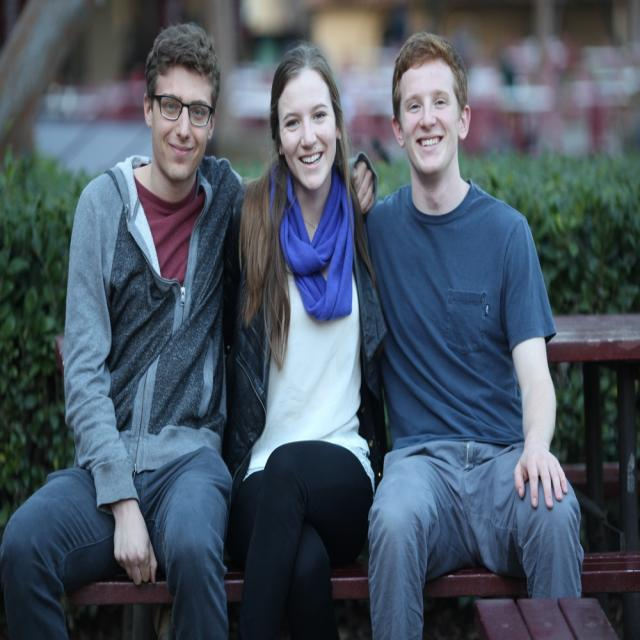body: (0, 20, 380, 639), (363, 28, 587, 640), (224, 43, 390, 639)
